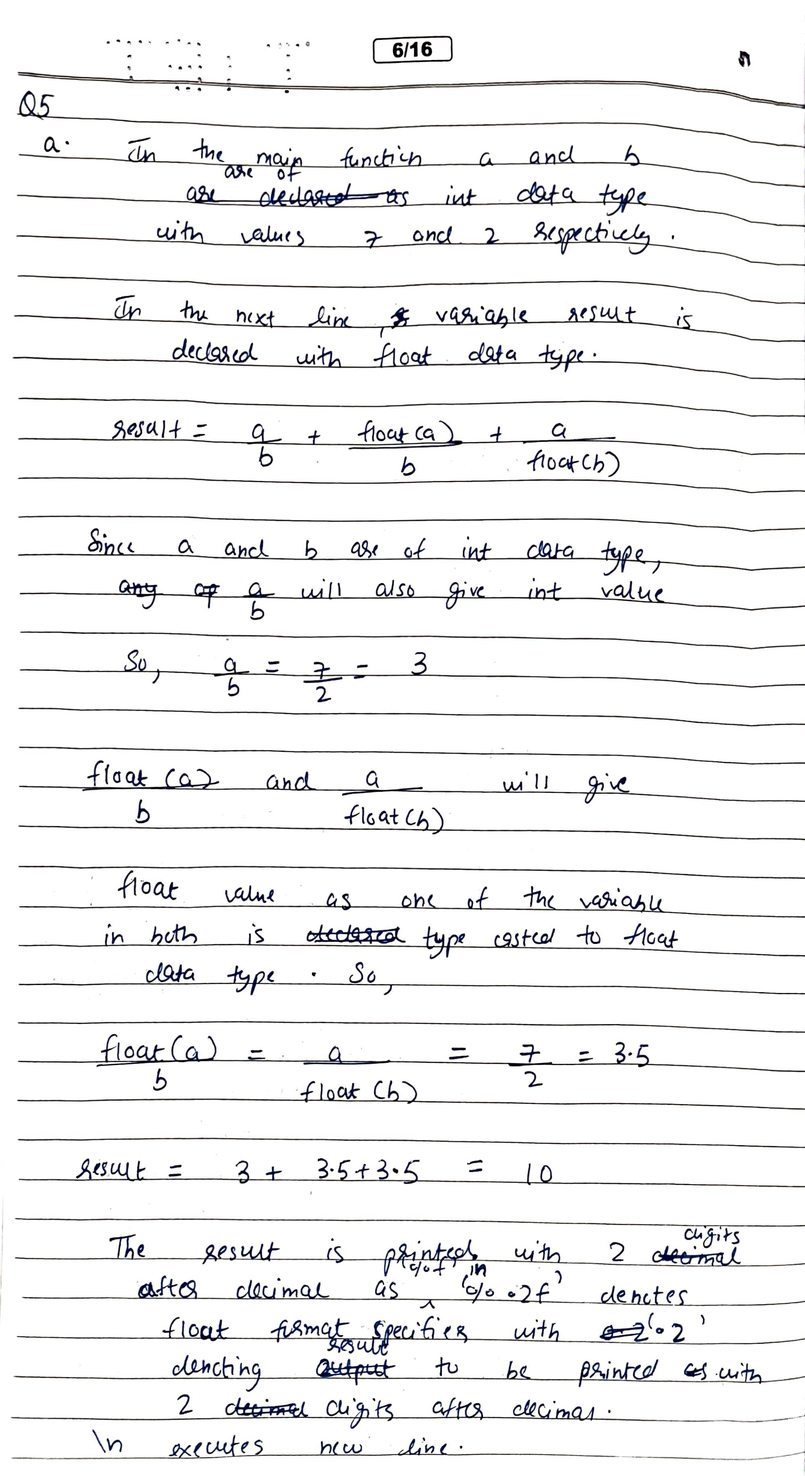cuttings: (186, 182, 412, 209), (313, 1358, 397, 1387), (304, 923, 407, 946), (650, 1244, 743, 1267), (223, 1396, 311, 1419), (118, 579, 164, 610), (598, 1321, 650, 1344), (194, 583, 222, 609), (682, 1361, 708, 1381), (390, 306, 410, 329)
